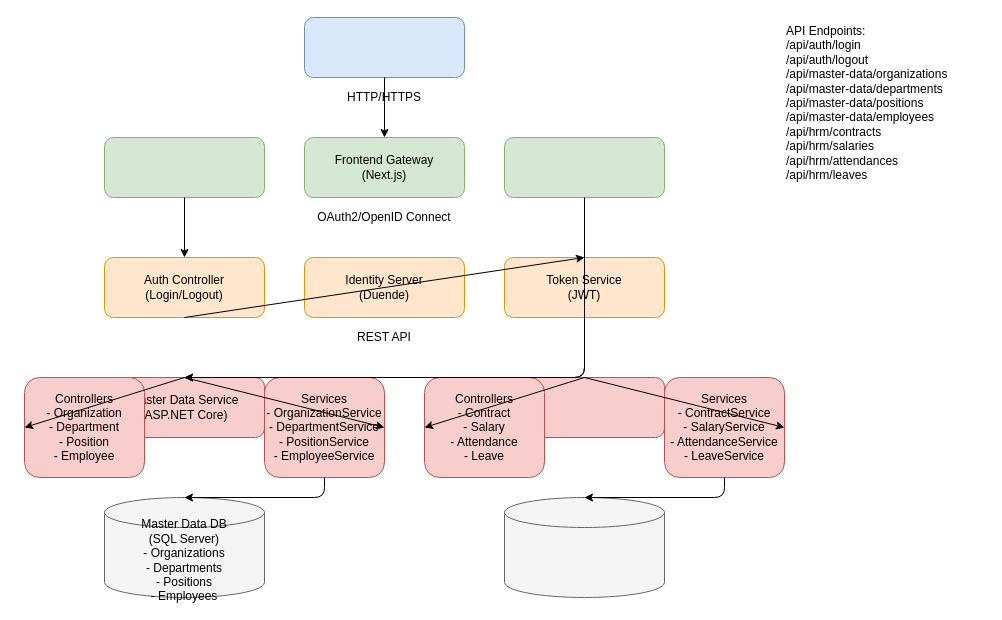
Some shapes in this 1002 by 620 pixel diagram are drawn without their labels. The shapes that lost their labels are listed below. From the top down, each one's centre as x and y in pixels, then its label:
(384,47): Client (Browser)
(184,167): Auth Component (NextAuth.js)
(584,167): Dashboard Component (React)
(584,407): HRM Service (ASP.NET Core)
(584,547): HRM DB (SQL Server) - Contracts - Salaries - Attendances - Leaves
